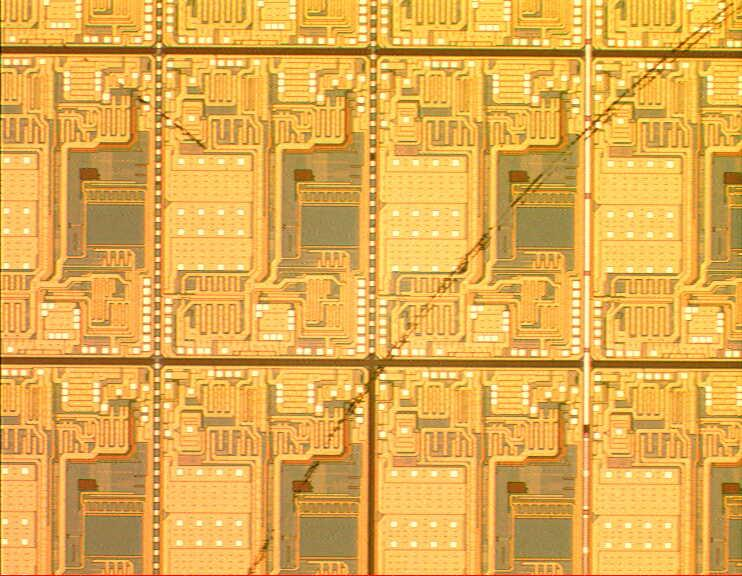SCRATCH: (25, 1, 742, 576)
